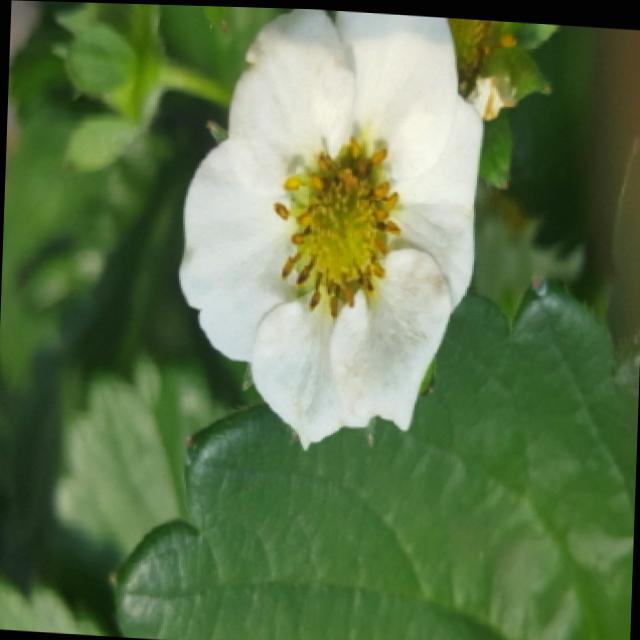Blossom Blight: (268, 129, 406, 324)
